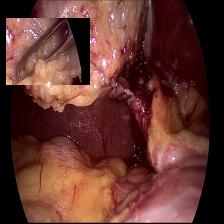Grasper: (7, 18, 90, 85)
